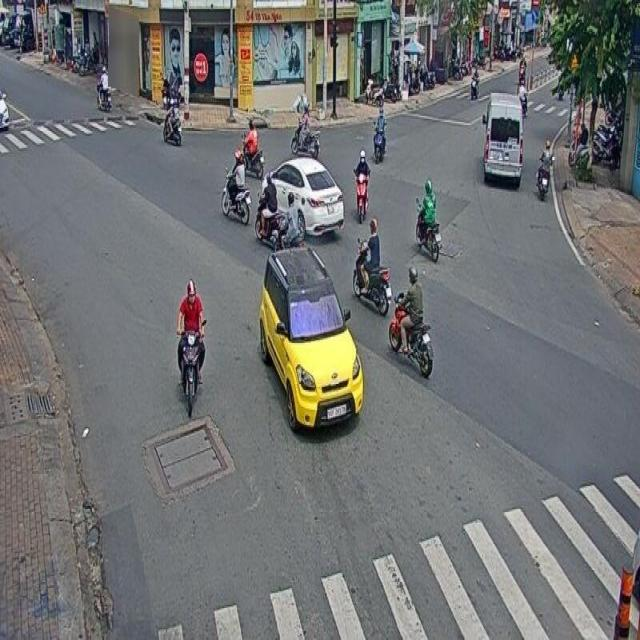car: (258, 244, 362, 431), (262, 157, 343, 235)
motorcycle: (388, 265, 434, 381), (177, 279, 206, 417), (352, 218, 391, 317), (220, 150, 251, 226), (414, 178, 441, 265), (290, 104, 320, 158), (241, 119, 264, 178), (353, 148, 370, 219), (536, 139, 554, 201), (372, 108, 386, 163)
truck: (483, 92, 522, 182)
